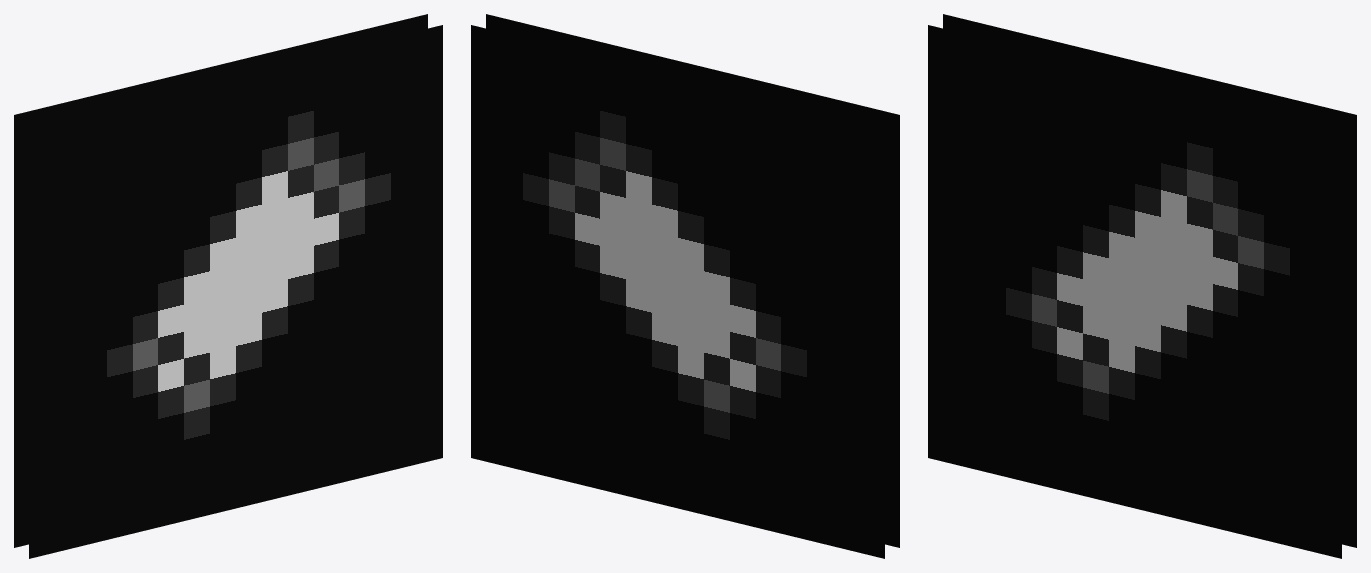
File: syringe_barrel.glb
The picture shows the model from 3 angles, left to right: view 1: azimuth 30°, elevation 25°; view 2: azimuth 150°, elevation 25°; view 3: azimuth 330°, elevation 25°; orthographic projection.
Bounding box in the file's own units: 1 × 1 × 0.0625.
Materials: 1 (1 with a texture image).
